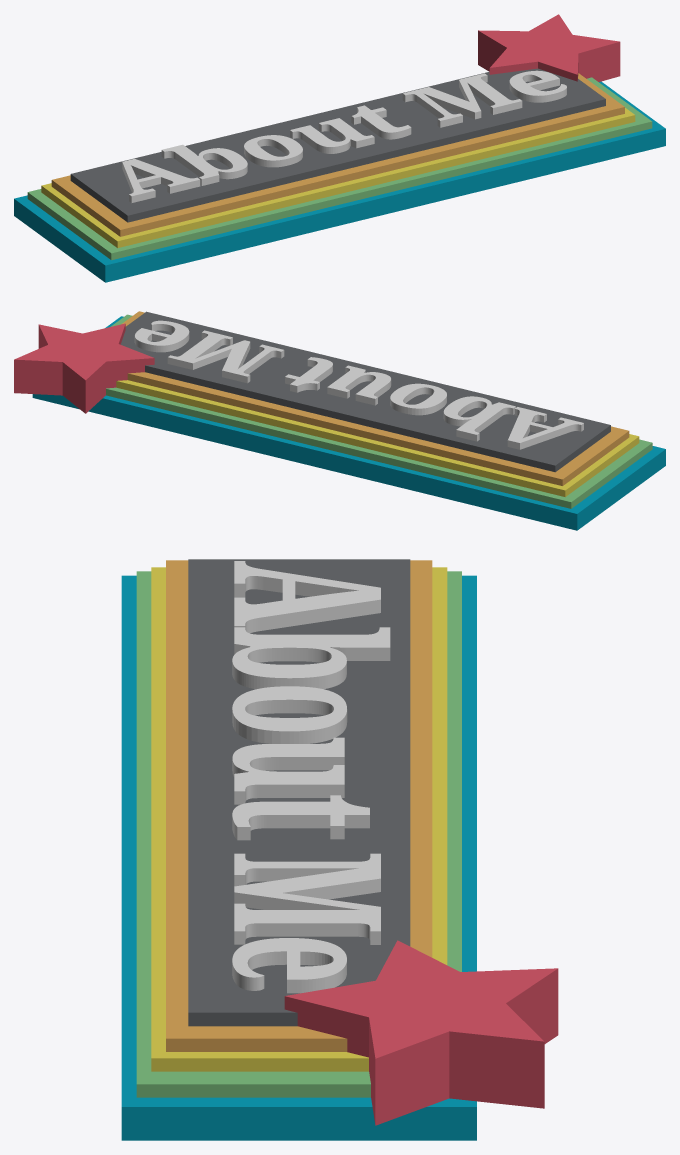
The model's file is txtAboutMe.glb.
The picture shows the model from 3 angles, top to bottom: view 1: azimuth 30°, elevation 25°; view 2: azimuth 150°, elevation 25°; view 3: azimuth 270°, elevation 25°; orthographic projection. The views are drawn at different scales.
Parts seen in each view (by area): view 1: Mesh_Mesh_head_geo.001_lambert2SG.001; view 2: Mesh_Mesh_head_geo.001_lambert2SG.001; view 3: Mesh_Mesh_head_geo.001_lambert2SG.001.
Part boxes in pixels (box(x1,y1,x2,y2)): Mesh_Mesh_head_geo.001_lambert2SG.001: box(14, 14, 665, 282); Mesh_Mesh_head_geo.001_lambert2SG.001: box(14, 311, 665, 530); Mesh_Mesh_head_geo.001_lambert2SG.001: box(121, 559, 558, 1140).
Bounding box in the file's own units: 176 × 15 × 59.
